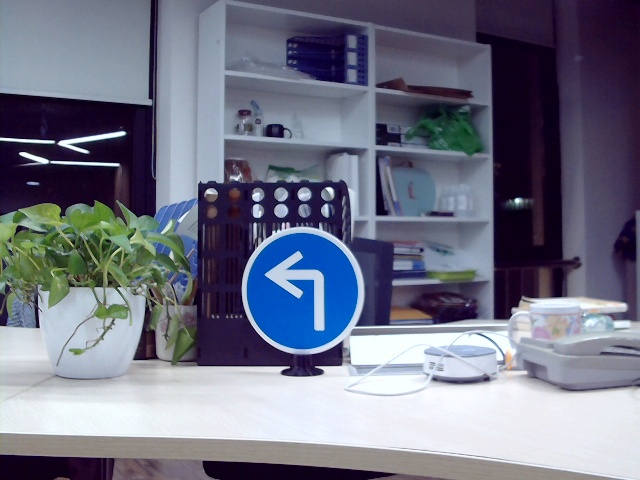turn_left: (264, 248, 331, 333)
